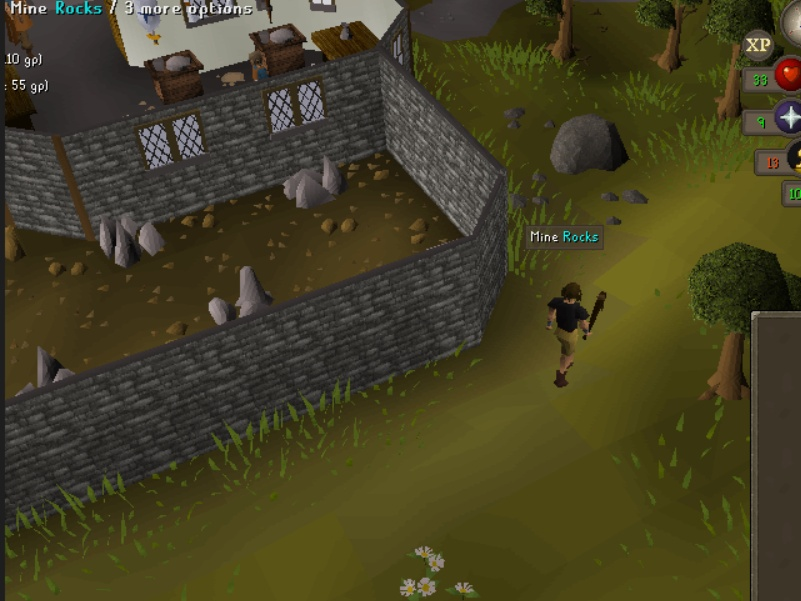silver: (90, 209, 173, 269), (273, 153, 356, 213), (201, 261, 282, 322), (11, 339, 86, 403)
